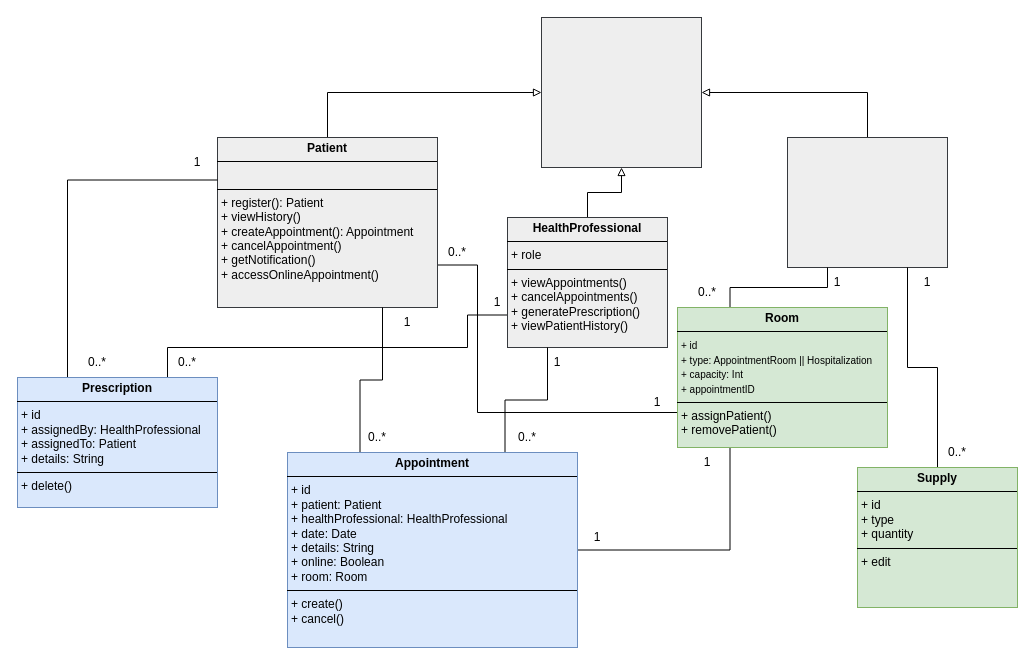
This 1035x665 diagram has some shape labels left out. The centre of each missing label's shape, as x and y in pixels:
"Admin + createAccount() + generateReport() + manageRooms() + manageSupplies()" belongs at pixel 867 202.
"User + id + userName + password + name + genre + dob + login()" belongs at pixel 621 92.
